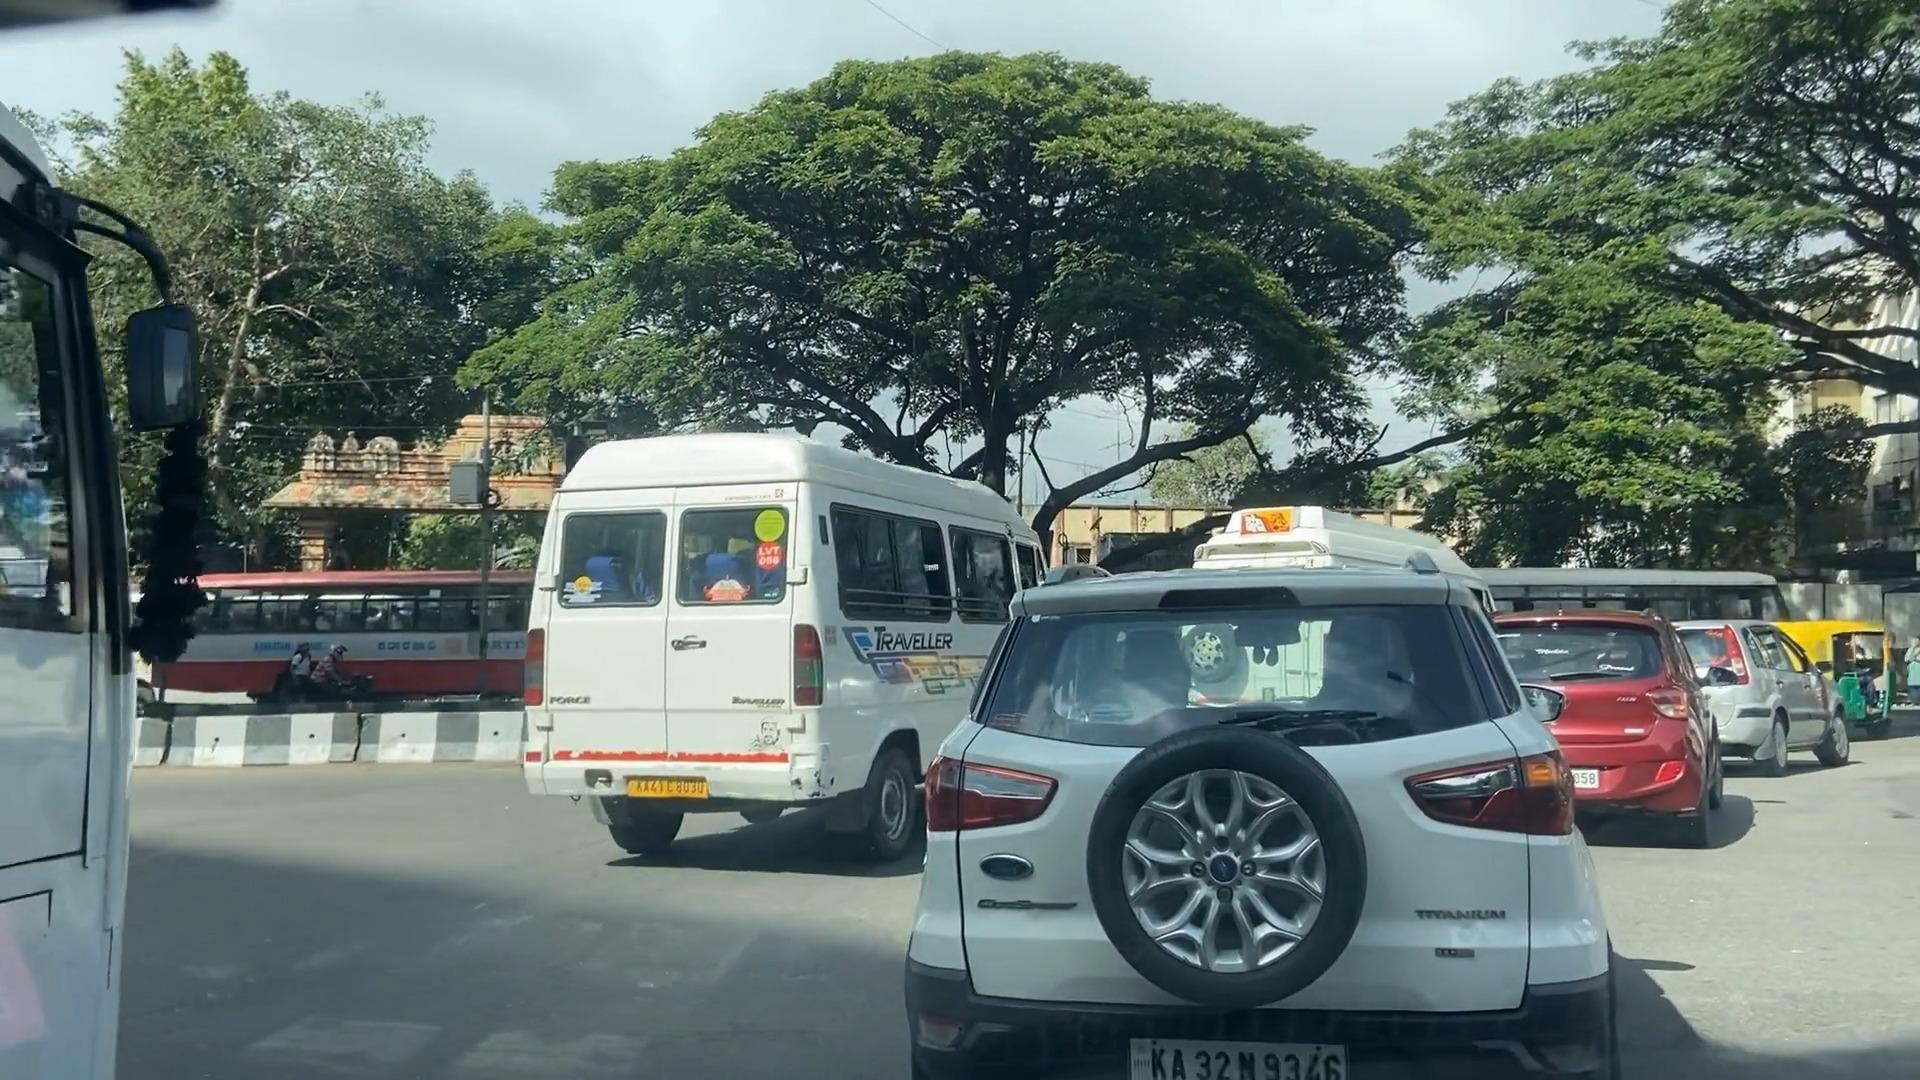HMV: (603, 448, 996, 862)
LMV: (956, 622, 1585, 1080)
RoadDamages: (253, 828, 802, 1080)
